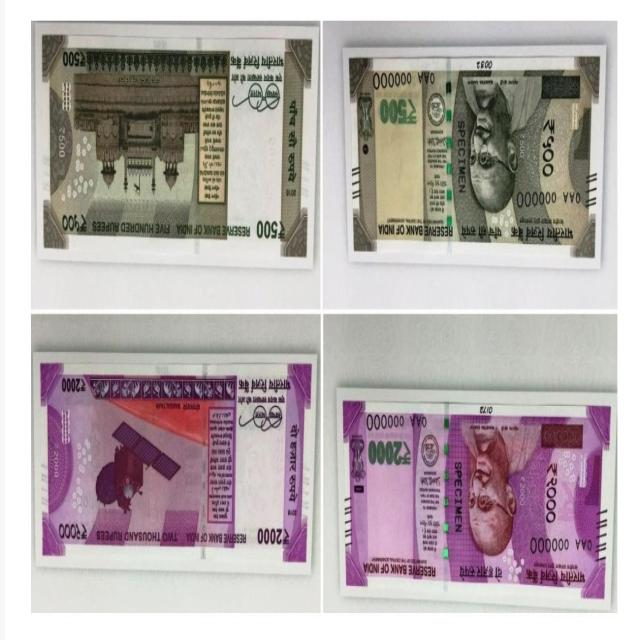500IndianRupees: (36, 24, 322, 262)
